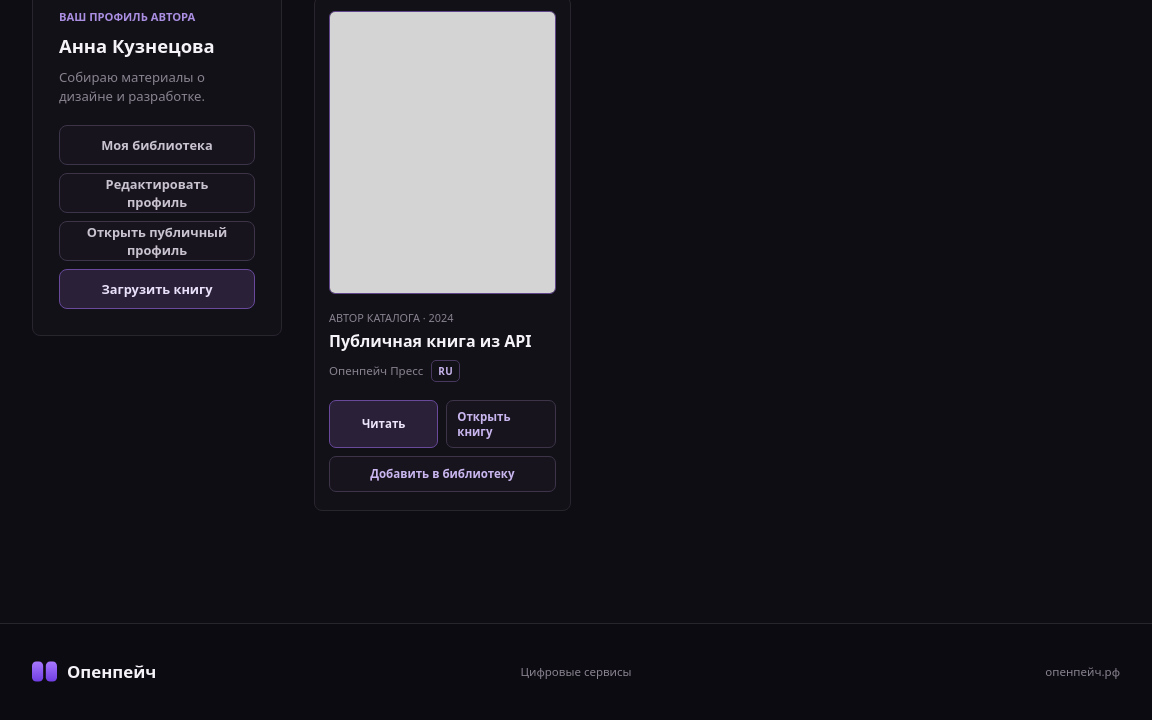
Test case: KnowledgePage › считает add response 200 успешным и локально обновляет карточку
(page scrolled)
Click the button "Добавить в библиотеку" at (442, 474), box [329,456,556,492]
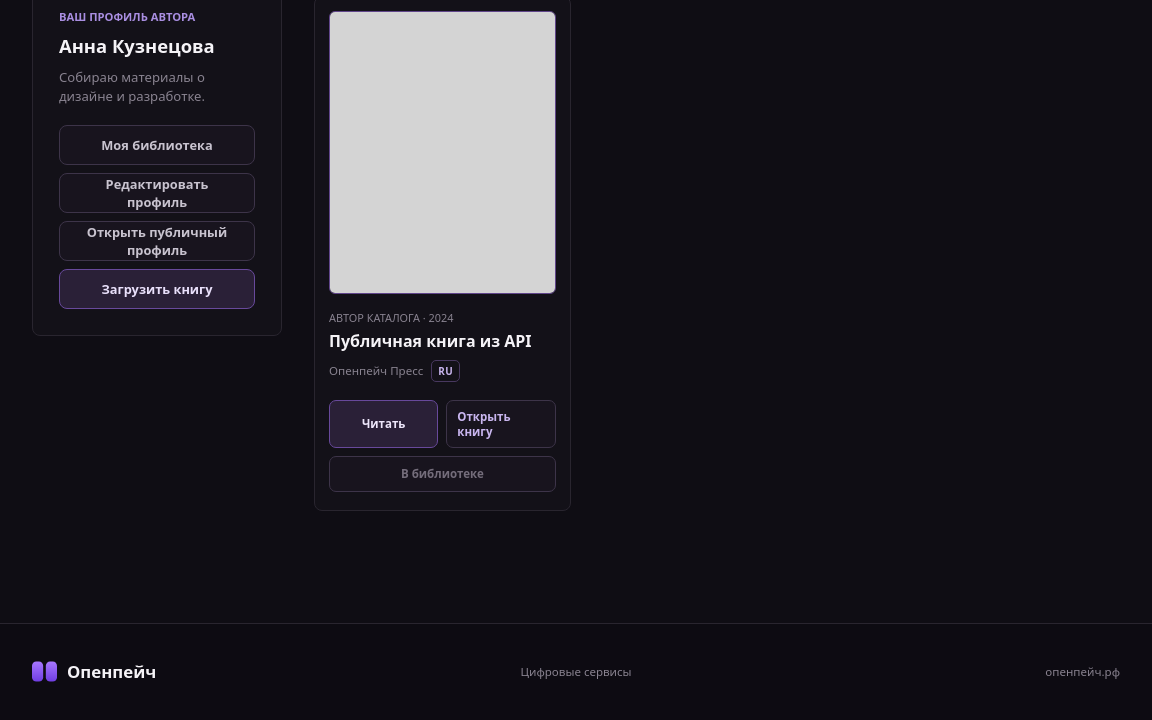
Expected: the heading "Публичная книга из API" is shown, [329,331,556,352]
Now the button "В библиотеке" is disabled, box [329,456,556,492]
